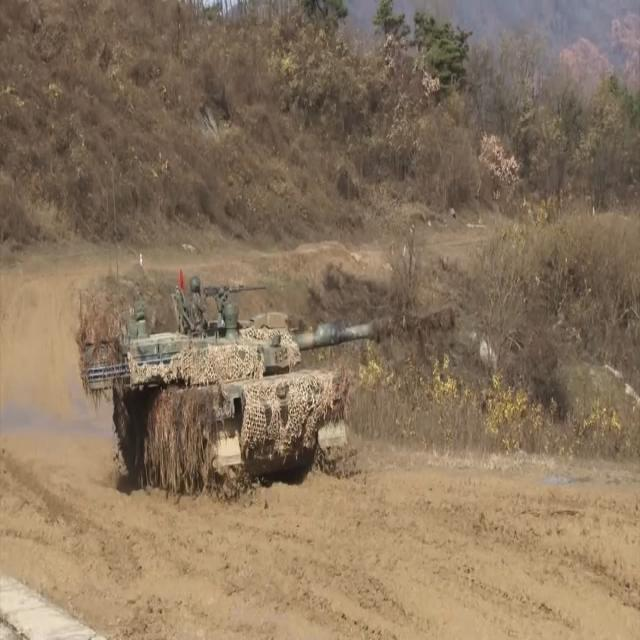korea tank: (76, 271, 462, 509)
